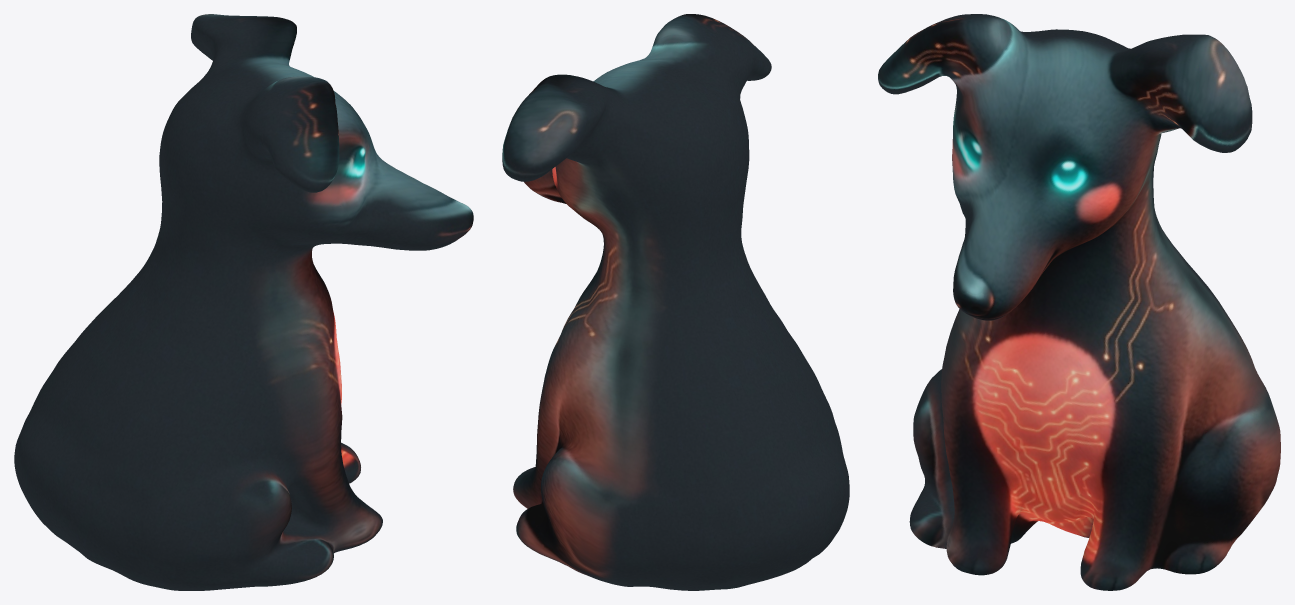
File: circuit-greyhound-da3e419643d6.glb
The picture shows the model from 3 angles, left to right: view 1: azimuth 30°, elevation 25°; view 2: azimuth 150°, elevation 25°; view 3: azimuth 270°, elevation 25°; orthographic projection. The views are drawn at different scales.
Visible parts, largest first — view 1: greyhound original design reconstruction; view 2: greyhound original design reconstruction; view 3: greyhound original design reconstruction.
Boxes of the visible parts, <box> form: greyhound original design reconstruction: <box>14,14,473,590</box>; greyhound original design reconstruction: <box>502,14,849,590</box>; greyhound original design reconstruction: <box>878,14,1280,590</box>.
Size of the model in its own units: 0.8356 by 1.03 by 0.6934.
Materials: 1 (1 with a texture image).
